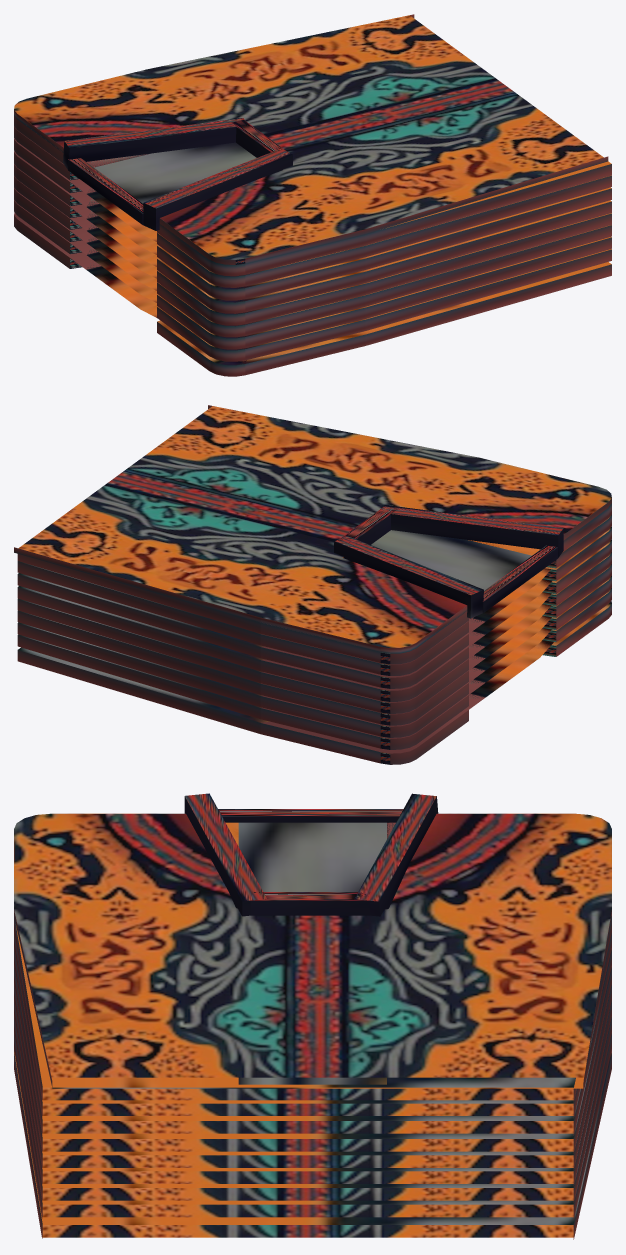
File: Guayabera2_6.obj
The picture shows the model from 3 angles, top to bottom: view 1: azimuth 30°, elevation 25°; view 2: azimuth 150°, elevation 25°; view 3: azimuth 270°, elevation 25°; orthographic projection. The views are drawn at different scales.
Visible parts, largest first — view 1: Guayabera2; view 2: Guayabera2; view 3: Guayabera2.
Boxes of the visible parts, box(x1,y1,x2,y2) form: Guayabera2: box(14, 14, 611, 376); Guayabera2: box(14, 405, 611, 764); Guayabera2: box(14, 793, 611, 1239).
Bounding box in the file's own units: 0.3772 × 0.1129 × 0.35.
1 material, 1 textured.
